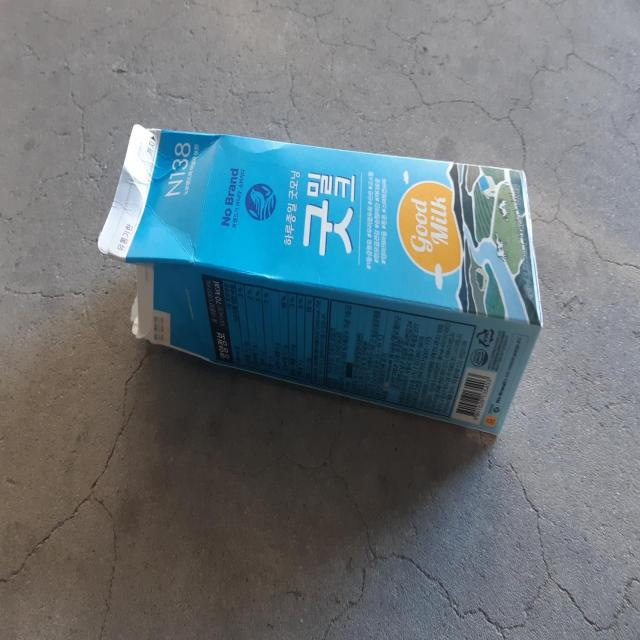paperpack: (97, 124, 543, 433)
